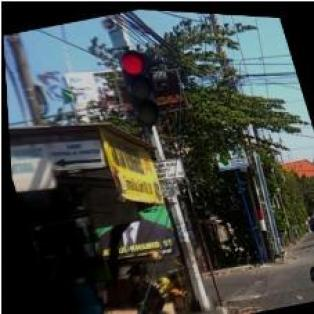Semaforo Rojo: (115, 46, 162, 128)
